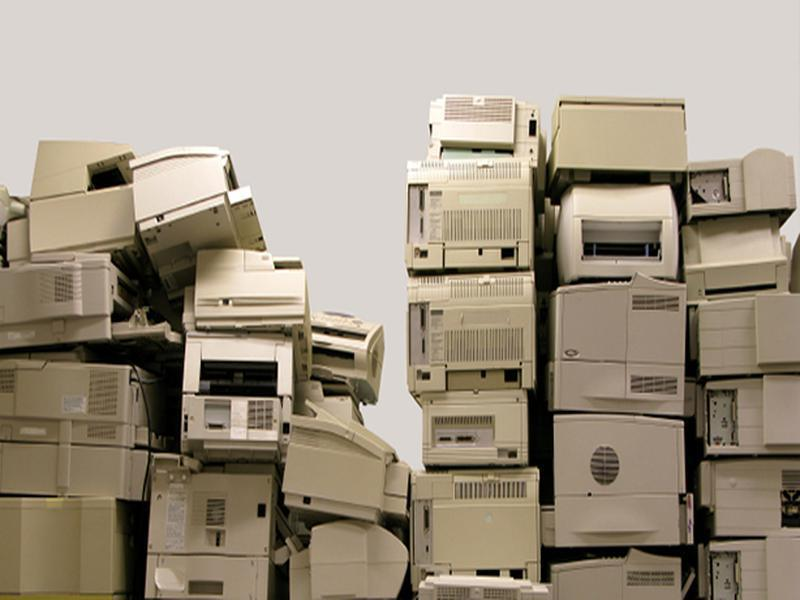printer: (548, 411, 702, 556), (171, 331, 300, 465), (392, 278, 542, 389), (399, 156, 541, 273), (281, 414, 418, 529), (25, 132, 143, 254), (548, 177, 685, 278), (186, 247, 320, 333), (687, 287, 800, 377), (412, 393, 538, 466)
